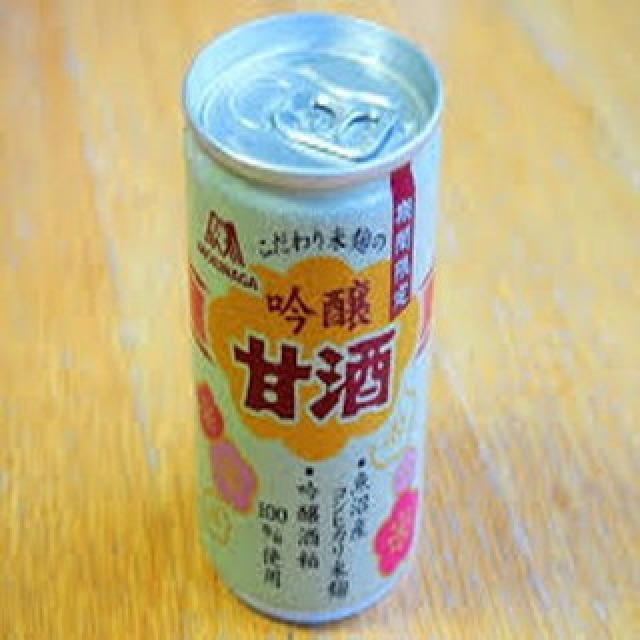can: (182, 11, 443, 626)
